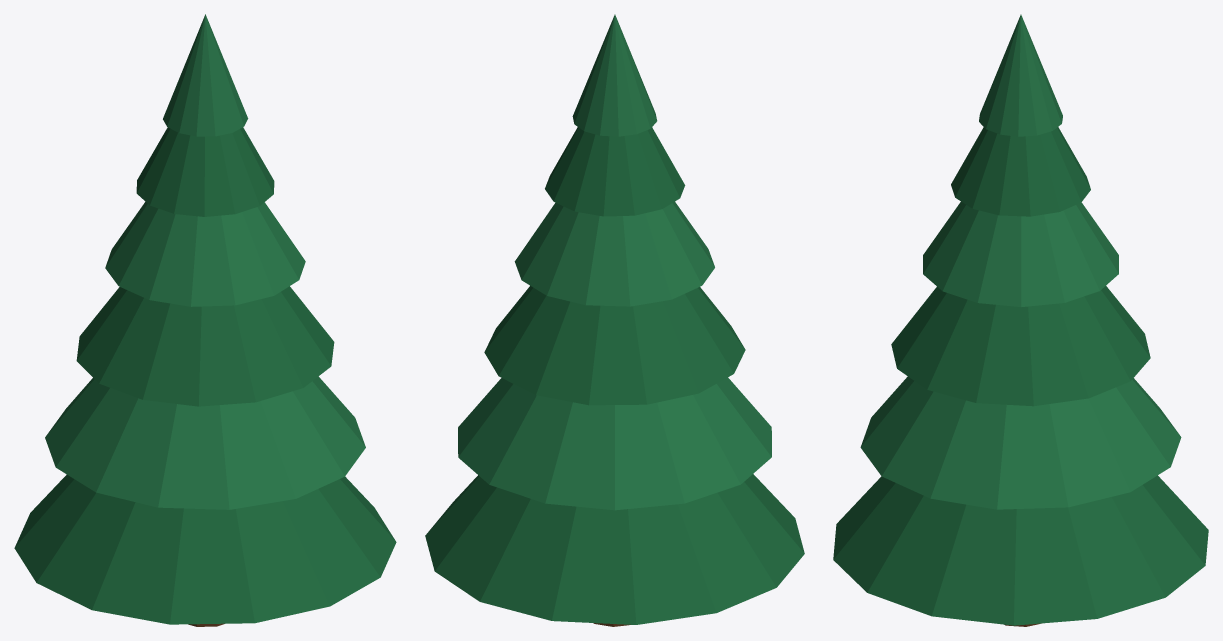
Rendered from TreePlaza_Tree.glb.
The picture shows the model from 3 angles, left to right: view 1: azimuth 30°, elevation 25°; view 2: azimuth 150°, elevation 25°; view 3: azimuth 270°, elevation 25°; orthographic projection.
Visible parts, largest first — view 1: TreePlaza_Tree; view 2: TreePlaza_Tree; view 3: TreePlaza_Tree.
Part boxes in pixels (<box>): TreePlaza_Tree: <box>14,14,396,626</box>; TreePlaza_Tree: <box>425,14,804,626</box>; TreePlaza_Tree: <box>833,14,1208,626</box>.
Size of the model in its own units: 15.19 by 26.3 by 14.94.
